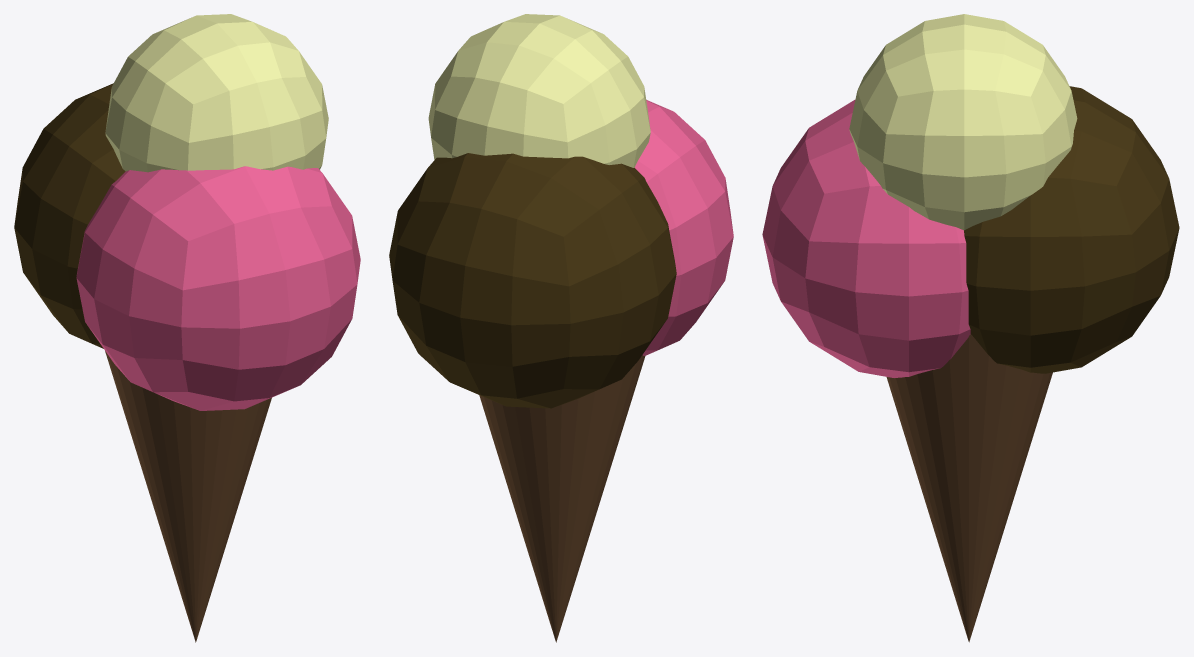
The model's file is pieza1.glb.
3 views of the same model, side by side, from view 1: azimuth 30°, elevation 25°; view 2: azimuth 150°, elevation 25°; view 3: azimuth 270°, elevation 25° (orthographic). The views are drawn at different scales.
Visible parts, largest first — view 1: Quadsphere.002, Cone; view 2: Quadsphere.002, Cone; view 3: Quadsphere.002, Cone.
Boxes of the visible parts, x1,y1,x2,y2 form: Quadsphere.002: [14, 14, 360, 410]; Cone: [105, 351, 271, 642]; Quadsphere.002: [389, 14, 733, 408]; Cone: [479, 355, 645, 642]; Quadsphere.002: [762, 14, 1179, 377]; Cone: [886, 334, 1052, 642].
Size of the model in its own units: 1.87 by 4.35 by 2.62.
